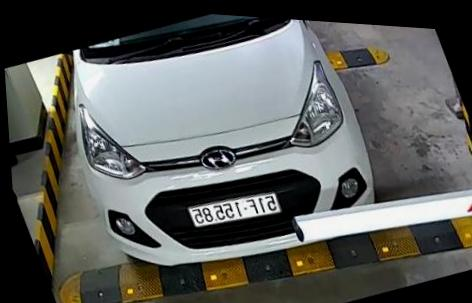License_Plate: (177, 178, 292, 243)
